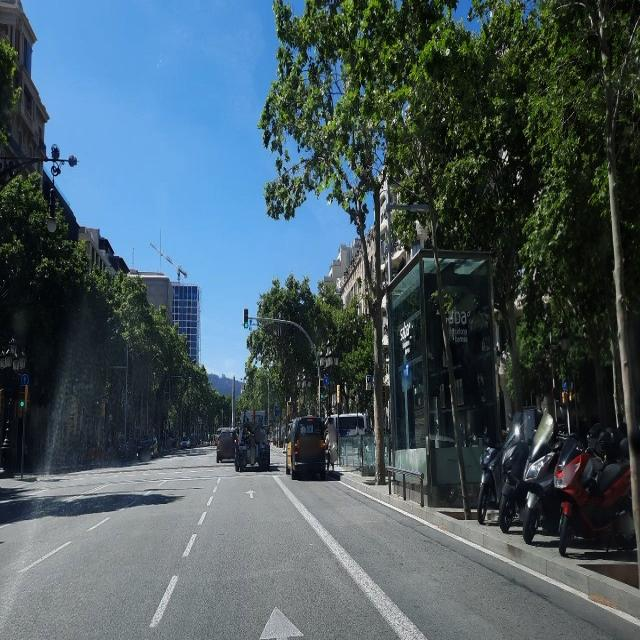bike: (521, 408, 631, 549), (557, 408, 640, 558), (476, 427, 534, 528)
car: (285, 413, 327, 481), (235, 408, 270, 472), (325, 410, 368, 443), (216, 426, 236, 464), (180, 436, 190, 450)
